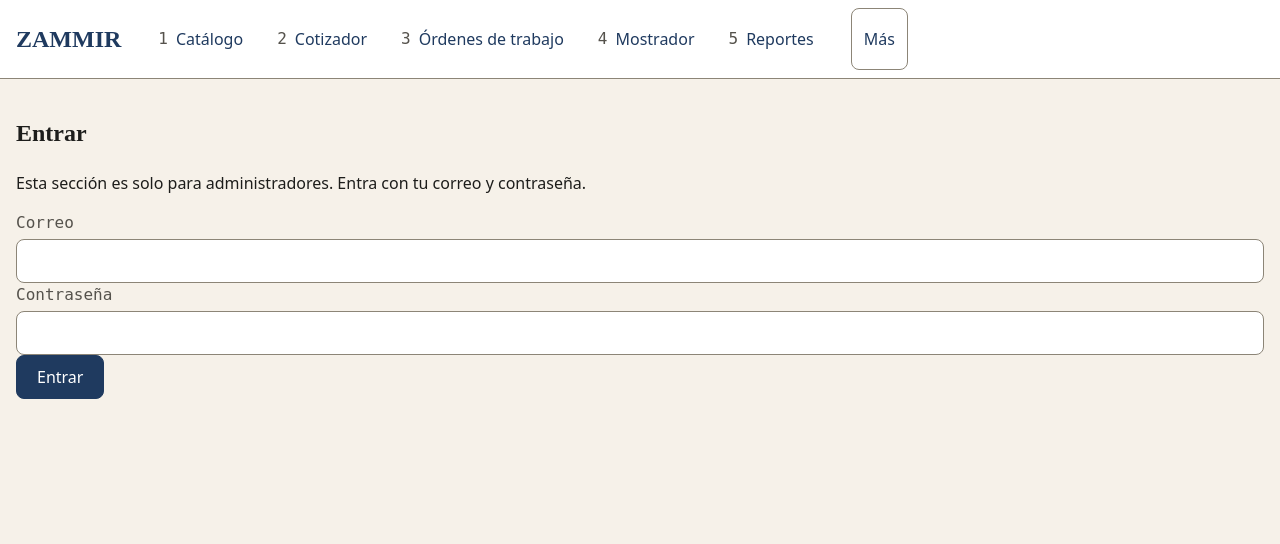
pantalla de tablets › sin tablets dice cómo registrar la primera
The width and height of the screenshot is (1280, 544).
Type "a@ejemplo.invalid" into the field labelled "Correo" at point(640, 261), box 16,239 -> 1264,283
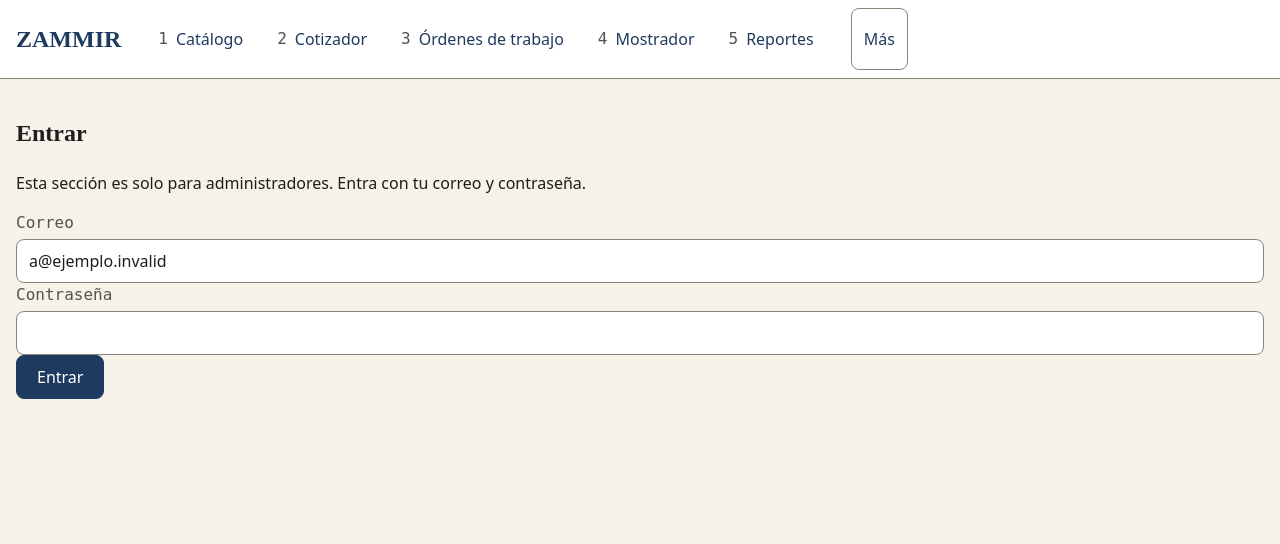
Type "clave-de-prueba-1" into the password field labelled "Contraseña" at point(640, 333), box 16,311 -> 1264,355
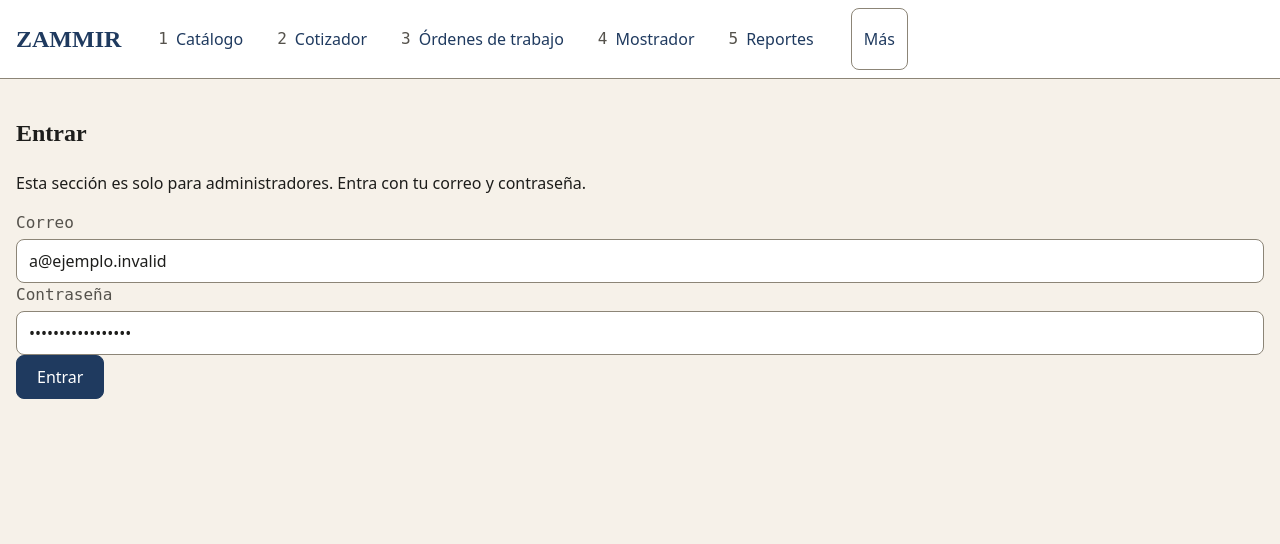
Click the button "Entrar" at point(60, 377), box 16,355 -> 104,399
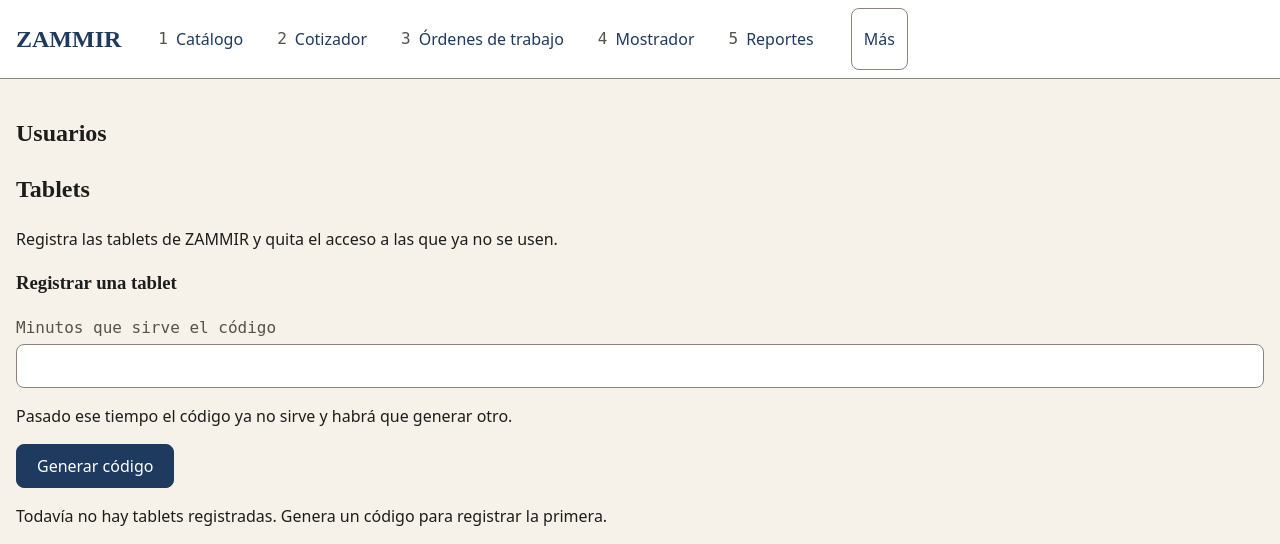
Result: the text "Todavía no hay tablets registradas" is shown at 16,505 -> 607,527
